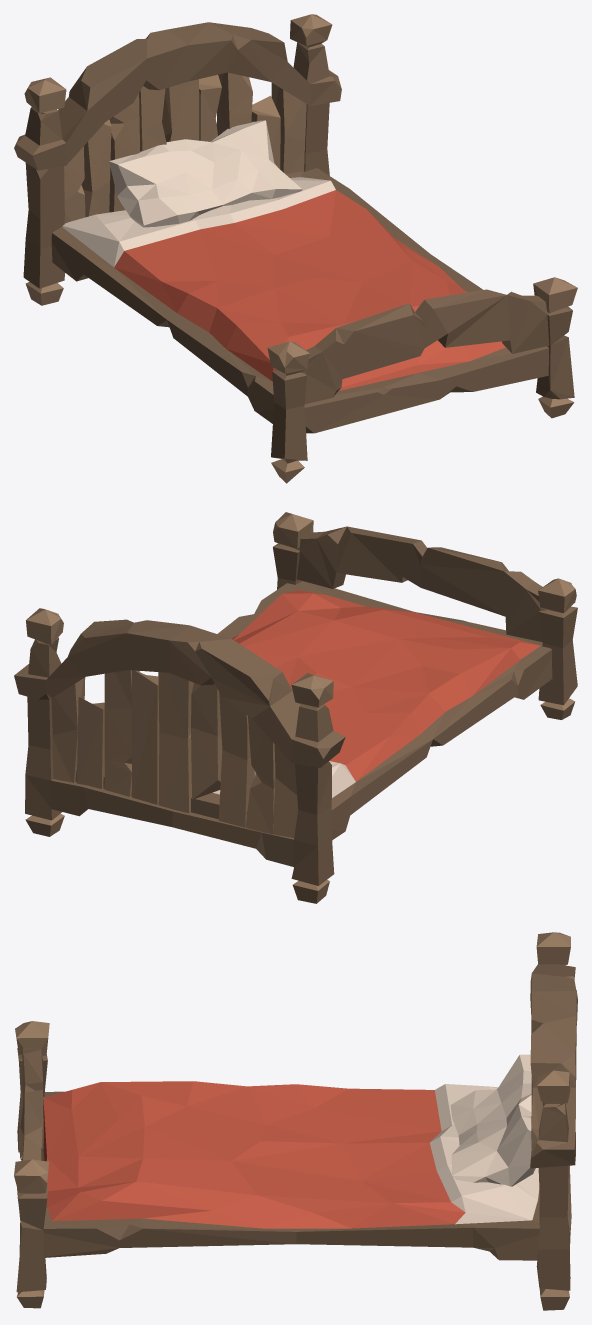
The model's file is CaptainBed_Red.fbx.
The picture shows the model from 3 angles, top to bottom: view 1: azimuth 30°, elevation 25°; view 2: azimuth 150°, elevation 25°; view 3: azimuth 270°, elevation 25°; orthographic projection. The views are drawn at different scales.
Visible parts, largest first — view 1: CaptainBed_Red; view 2: CaptainBed_Red; view 3: CaptainBed_Red.
Boxes of the visible parts, bbox=[...] form: CaptainBed_Red: bbox=[14, 14, 577, 483]; CaptainBed_Red: bbox=[14, 512, 577, 903]; CaptainBed_Red: bbox=[14, 932, 577, 1310].
Size of the model in its own units: 4.1 by 2.94 by 6.03.
